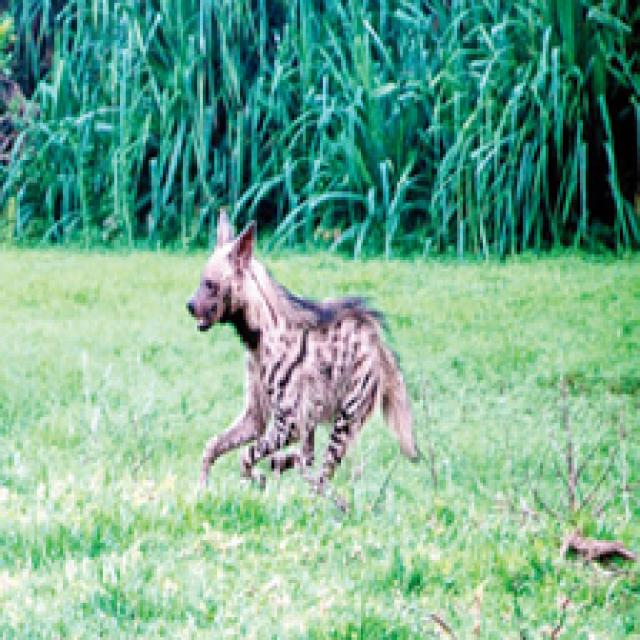hyena: (166, 211, 423, 505)
